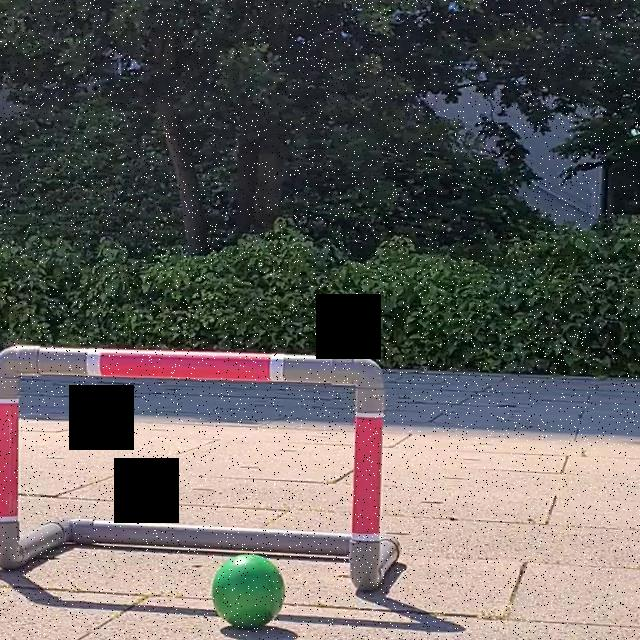ball: (209, 549, 287, 628)
